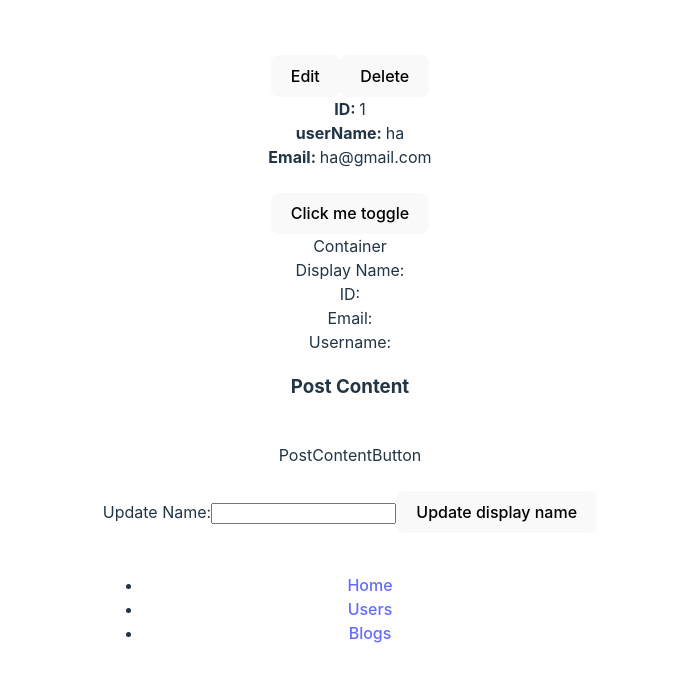
Test case: should navigate to blog-post and back to /
Click the link "Blogs" at (370, 632), box [349, 622, 391, 642]
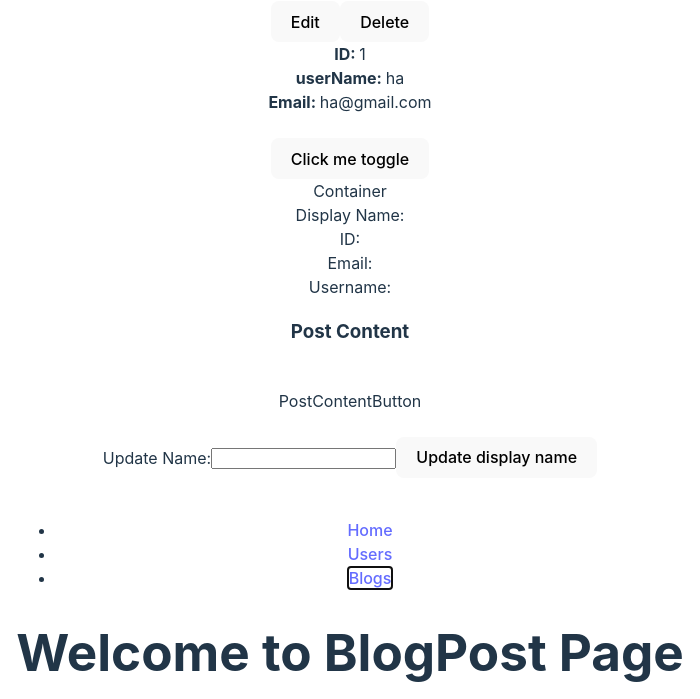
Expected: the heading "Welcome to BlogPost Page" is shown, [16, 624, 684, 681]
Click the link "Home" at (370, 530), box [347, 520, 393, 540]
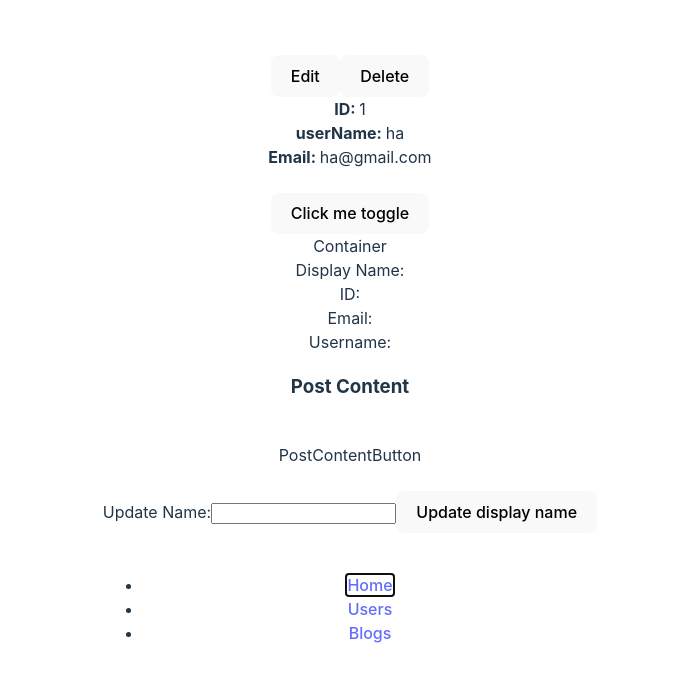
Expected: the heading "Welcome to BlogPost Page" is gone
